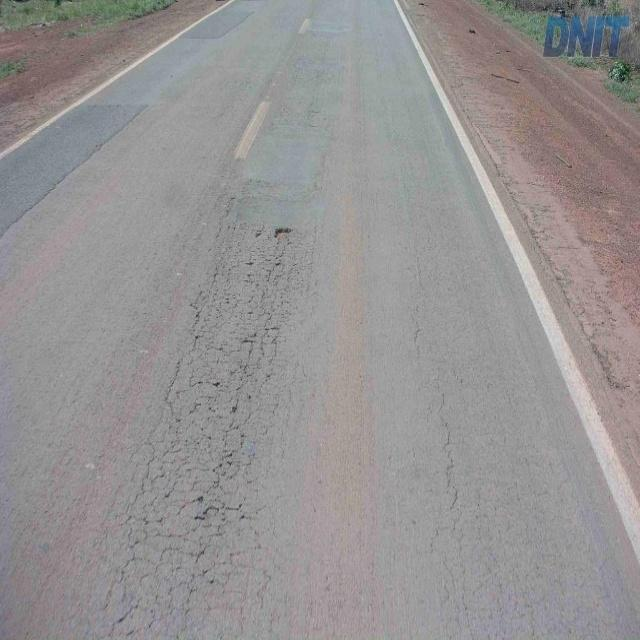pothole: (272, 225, 293, 242)
